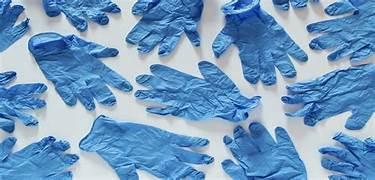Glove: (79, 115, 213, 179), (212, 0, 307, 84), (28, 33, 131, 109), (135, 61, 260, 121), (281, 64, 374, 129), (222, 122, 306, 179), (126, 0, 202, 55), (307, 0, 374, 61), (0, 136, 78, 179), (0, 71, 46, 132), (319, 133, 374, 179), (43, 0, 120, 31), (0, 0, 28, 51), (272, 0, 308, 10)
